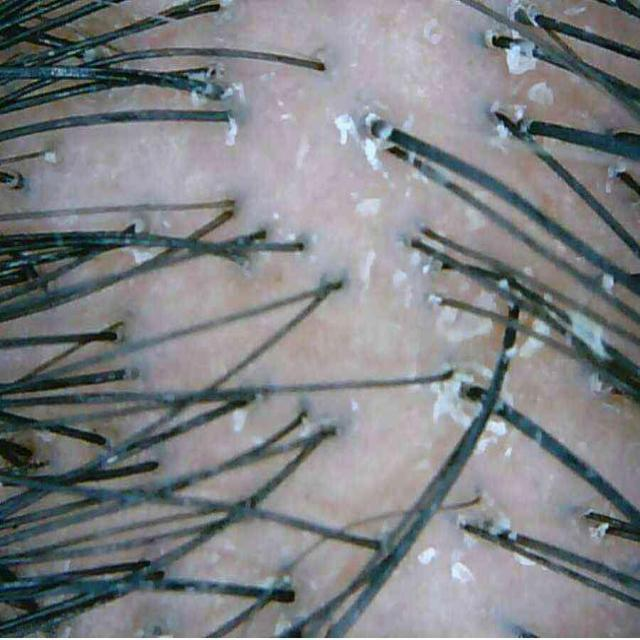d: (431, 374, 472, 428), (436, 306, 492, 344), (569, 312, 608, 357), (459, 505, 511, 535), (506, 42, 536, 74), (362, 137, 382, 171), (335, 114, 356, 145), (125, 248, 162, 265), (528, 81, 554, 105), (362, 249, 376, 290), (518, 336, 544, 358), (221, 81, 245, 102), (370, 118, 394, 139), (451, 562, 474, 583), (356, 199, 381, 218), (465, 206, 485, 229), (475, 291, 496, 311), (225, 116, 238, 146), (232, 408, 248, 432), (418, 547, 438, 565), (421, 258, 442, 275), (531, 318, 550, 335), (485, 421, 506, 436), (601, 273, 615, 293), (392, 270, 408, 286), (495, 123, 509, 140), (41, 149, 56, 164), (190, 92, 206, 106), (498, 277, 509, 291), (405, 187, 411, 198)
